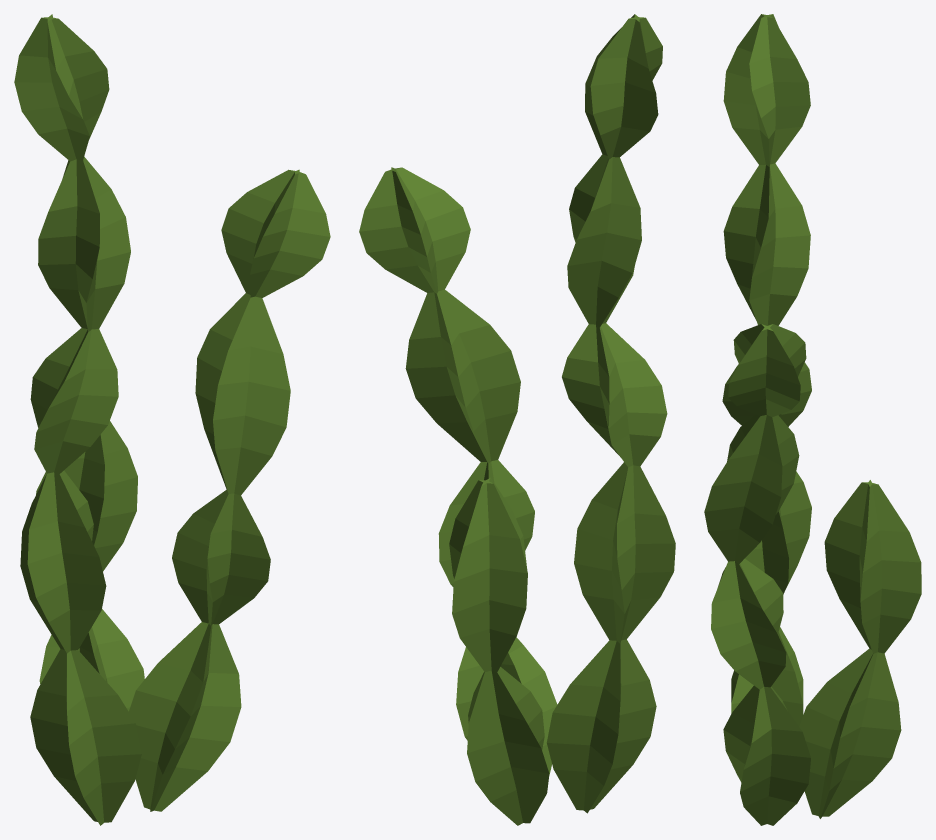
The model's file is Cactus_set_1.fbx.
The picture shows the model from 3 angles, left to right: view 1: azimuth 30°, elevation 25°; view 2: azimuth 150°, elevation 25°; view 3: azimuth 270°, elevation 25°; orthographic projection. The views are drawn at different scales.
Parts seen in each view (by area): view 1: Cactus_set_1; view 2: Cactus_set_1; view 3: Cactus_set_1.
Part boxes in pixels (box(x1,y1,x2,y2)): Cactus_set_1: box(14, 14, 330, 825); Cactus_set_1: box(359, 14, 675, 825); Cactus_set_1: box(704, 14, 921, 825).
Bounding box in the file's own units: 57.02 × 39.09 × 151.
